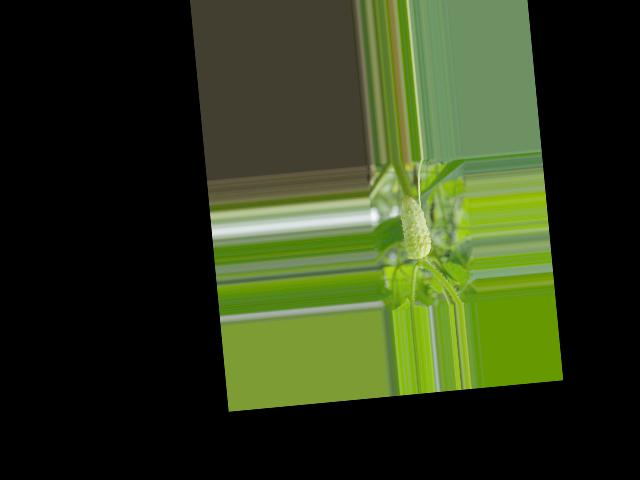cucumber: (399, 192, 433, 260)
